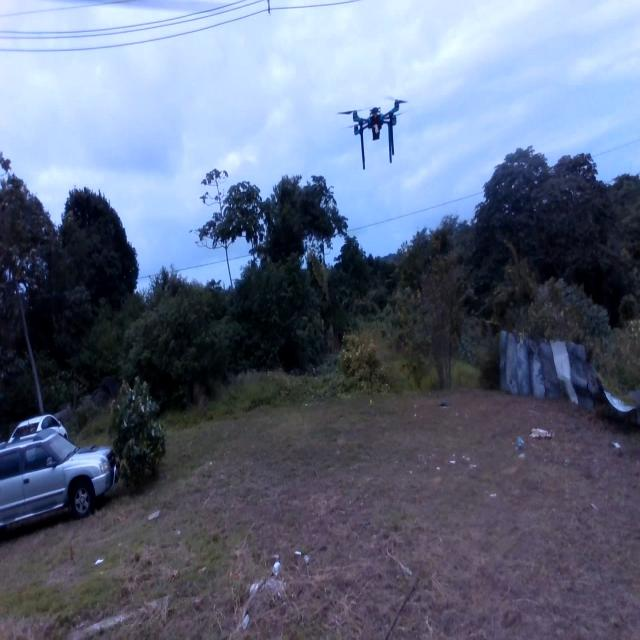-uav-: (335, 86, 411, 176)
